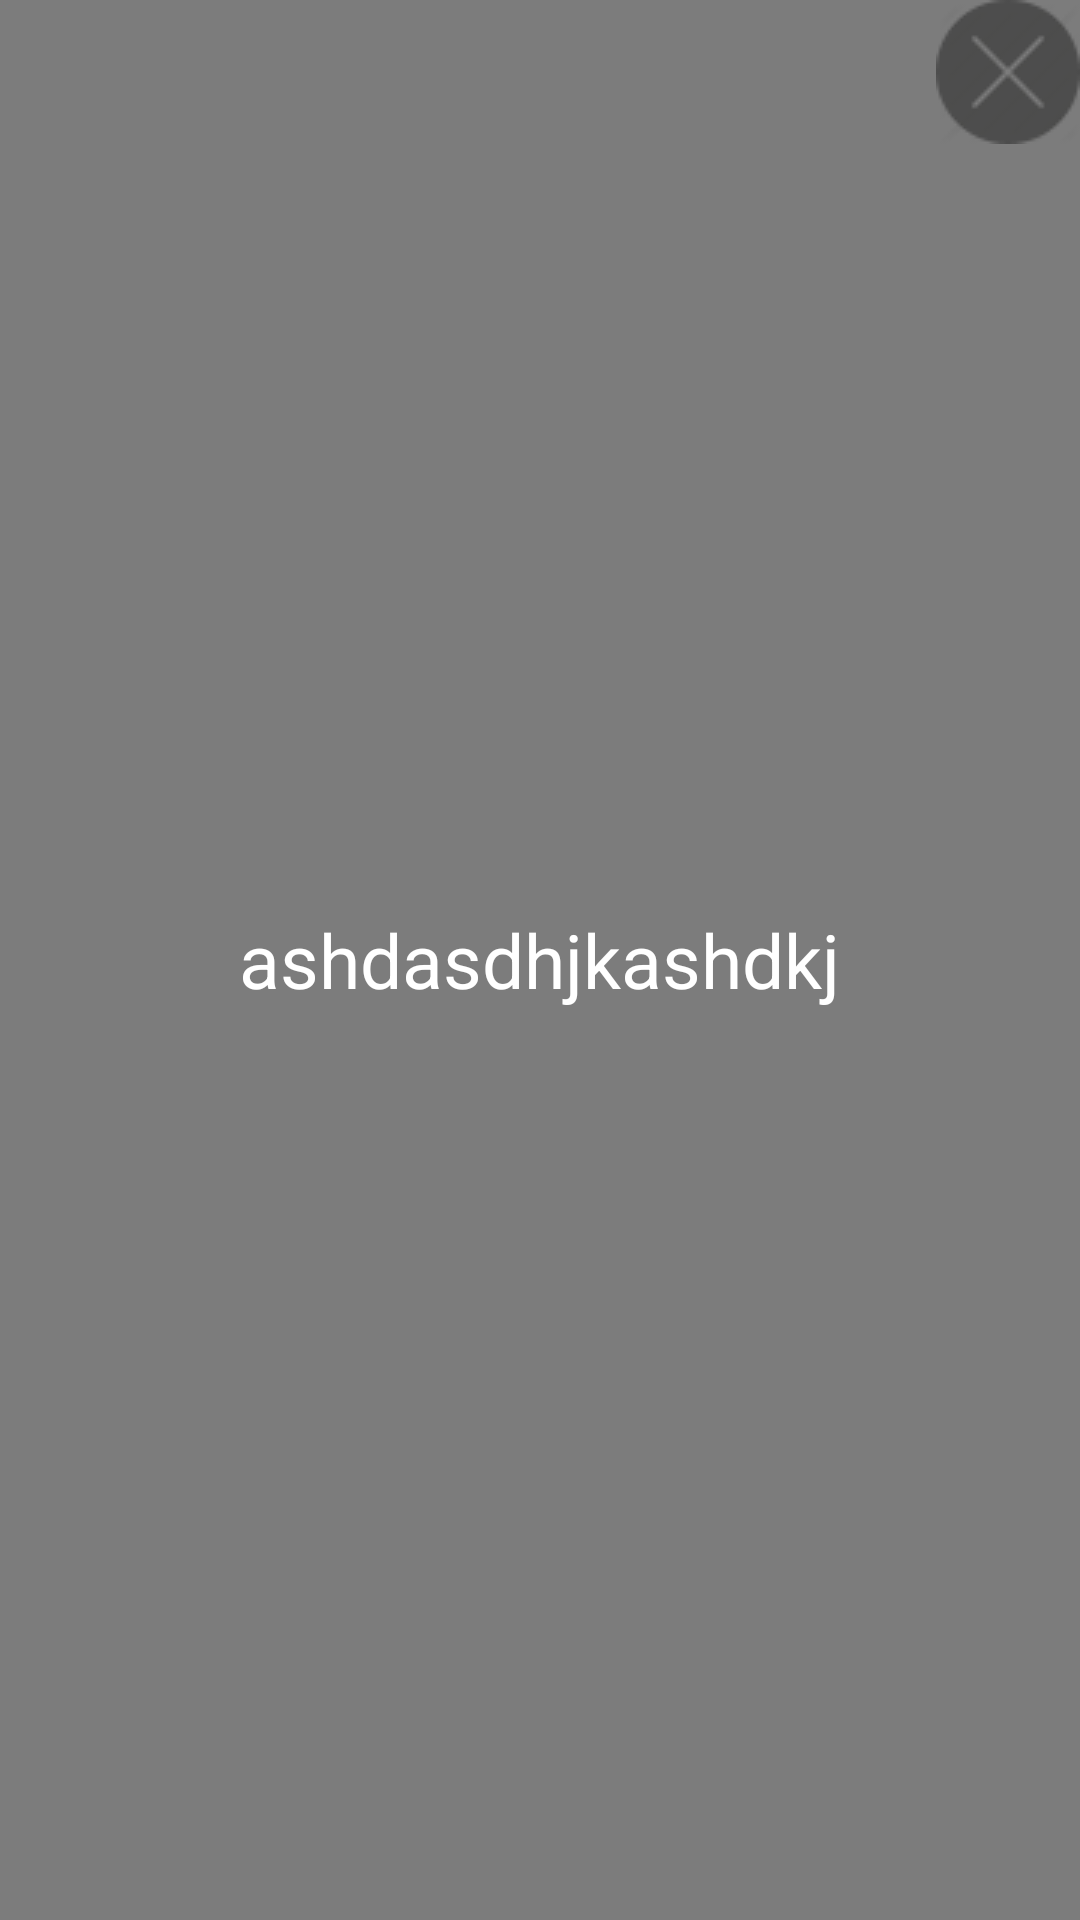

Named icons in this screenshot (1080*1920) and their centers, [x,y]:
close: [1008,72]
